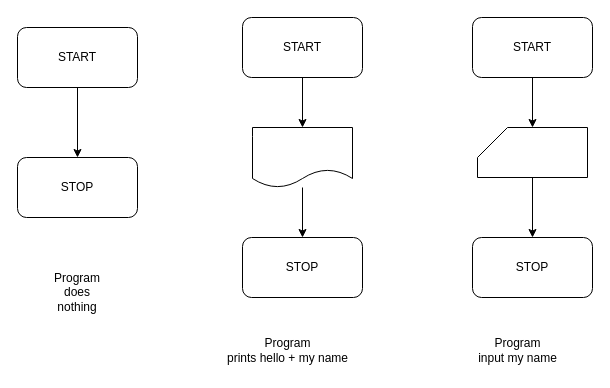
Image size: 610x388. Some labels were removed from this diagram. The box of each missing label's shape, as (x1, y1, x2, y2) in pixels:
"Hello Itay": (252, 126, 352, 188)
my_name: (476, 126, 588, 178)
